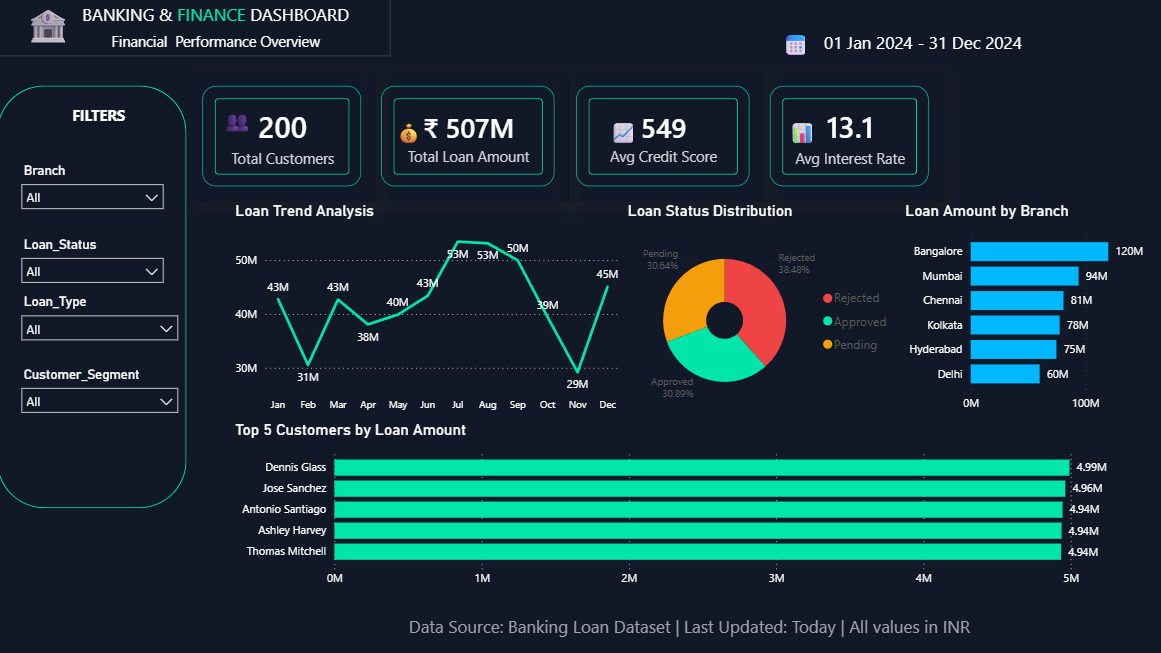

What the dashboard file says about the page in this screenshot:
{"tool":"powerbi","page":{"name":"Page 1","canvas":[1280,720],"ordinal":0},"visuals":[{"type":"cardVisual","fields":{"Data":["banking_messy_dataset__2.Total Customers"]},"box":[208,80,208,144],"z":0},{"type":"cardVisual","fields":{"Data":["banking_messy_dataset__2.Total Loan Amount"]},"box":[405.3,80,224,144],"z":1000},{"type":"cardVisual","fields":{"Data":["banking_messy_dataset__2.Avg Credit Score"]},"box":[618.7,80,224,144],"z":2000},{"type":"cardVisual","fields":{"Data":["banking_messy_dataset__2.Avg Interest Rate"]},"box":[832,80,208,144],"z":3000},{"type":"shape","box":[0,0,432,64],"z":4000},{"type":"textbox","box":[48,0,384,48],"z":5000},{"type":"textbox","box":[0,32,480,32],"z":6000},{"type":"textbox","box":[240,112,48,112],"z":7000},{"type":"textbox","box":[640,128,96,48],"z":8000},{"type":"textbox","box":[864,128,48,144],"z":9000},{"type":"textbox","box":[432,128,48,96],"z":10000},{"type":"textbox","box":[0,0,112,64],"z":11000},{"type":"lineChart","title":"Loan Trend Analysis","fields":{"Y":["Sum(banking_messy_dataset__2.Loan_Amount)"],"Category":["banking_messy_dataset__2.Month Name"]},"box":[256,224,432,240],"z":12000},{"type":"donutChart","title":"Loan Status Distribution","fields":{"Category":["banking_messy_dataset__2.Loan_Status"],"Y":["Sum(banking_messy_dataset__2.Loan_Amount)"]},"box":[688,224,304,240],"z":13000},{"type":"clusteredBarChart","title":"Loan Amount by Branch","fields":{"Category":["banking_messy_dataset__2.Branch"],"Y":["Sum(banking_messy_dataset__2.Loan_Amount)"]},"box":[992,224,288,240],"z":14000},{"type":"barChart","title":"Top 5 Customers by Loan Amount","fields":{"Y":["Sum(banking_messy_dataset__2.Loan_Amount)"],"Category":["banking_messy_dataset__2.Customer_Name"]},"box":[256,464,976,192],"z":15000},{"type":"textbox","box":[240,672,1040,48],"z":16000},{"type":"shape","box":[0,96,208,464],"z":17000},{"type":"textbox","box":[32,112,160,48],"z":18000},{"type":"slicer","fields":{"Values":["banking_messy_dataset__2.Branch"]},"box":[16,176,176,64],"z":19000},{"type":"slicer","fields":{"Values":["banking_messy_dataset__2.Loan_Status"]},"box":[16,256,176,64],"z":19001},{"type":"slicer","fields":{"Values":["banking_messy_dataset__2.Loan_Type"]},"box":[16,320,192,64],"z":19002},{"type":"slicer","fields":{"Values":["banking_messy_dataset__2.Customer_Segment"]},"box":[16,400,192,64],"z":19003},{"type":"shape","box":[800,16,400,64],"z":19004},{"type":"textbox","box":[864,32,304,48],"z":19005},{"type":"textbox","box":[816,32,80,48],"z":19006}]}

Visuals, with their boxes in screenshot pixels (x1, y1, x2, y2), scaled from the page's 1280x720 canvas onto the 1161x653 screenshot:
cardVisual - banking_messy_dataset__2.Total Customers: [189,73,377,203]
cardVisual - banking_messy_dataset__2.Total Loan Amount: [368,73,571,203]
cardVisual - banking_messy_dataset__2.Avg Credit Score: [561,73,764,203]
cardVisual - banking_messy_dataset__2.Avg Interest Rate: [755,73,943,203]
shape: [0,0,392,58]
textbox: [44,0,392,44]
textbox: [0,29,435,58]
textbox: [218,102,261,203]
textbox: [580,116,668,160]
textbox: [784,116,827,247]
textbox: [392,116,435,203]
textbox: [0,0,102,58]
"Loan Trend Analysis" lineChart: [232,203,624,421]
"Loan Status Distribution" donutChart: [624,203,900,421]
"Loan Amount by Branch" clusteredBarChart: [900,203,1160,421]
"Top 5 Customers by Loan Amount" barChart: [232,421,1117,595]
textbox: [218,609,1160,652]
shape: [0,87,189,508]
textbox: [29,102,174,145]
slicer - banking_messy_dataset__2.Branch: [15,160,174,218]
slicer - banking_messy_dataset__2.Loan_Status: [15,232,174,290]
slicer - banking_messy_dataset__2.Loan_Type: [15,290,189,348]
slicer - banking_messy_dataset__2.Customer_Segment: [15,363,189,421]
shape: [726,15,1088,73]
textbox: [784,29,1059,73]
textbox: [740,29,813,73]
